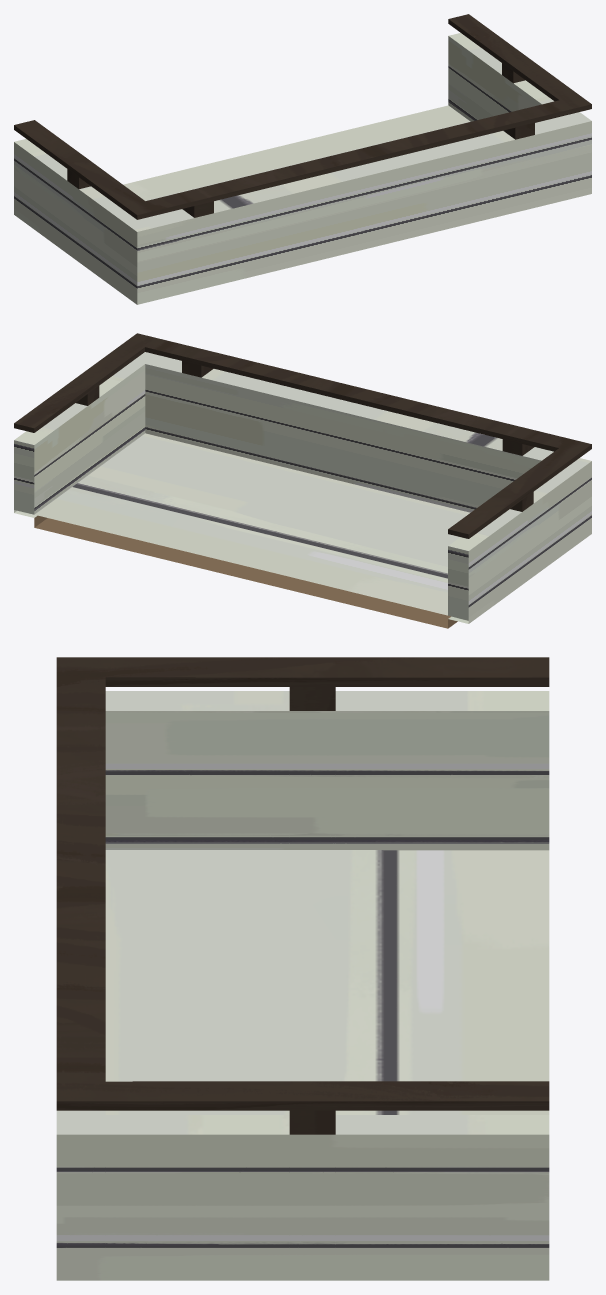
The model's file is Balcony5.fbx.
3 views of the same model, one above another, from view 1: azimuth 30°, elevation 25°; view 2: azimuth 150°, elevation 25°; view 3: azimuth 270°, elevation 25° (orthographic). The views are drawn at different scales.
Visible parts, largest first — view 1: BalconyStyle2; view 2: BalconyStyle2; view 3: BalconyStyle2.
Boxes of the visible parts, x1=… form: BalconyStyle2: x1=14, y1=14, x2=591, y2=304; BalconyStyle2: x1=14, y1=333, x2=591, y2=628; BalconyStyle2: x1=56, y1=657, x2=549, y2=1280.
Size of the model in its own units: 770 by 161 by 361.
3 materials, 2 textured.
